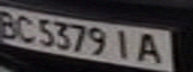3: (51, 20, 72, 52)
5: (33, 16, 57, 48)
7: (66, 21, 90, 55)
9: (84, 25, 112, 57)
A: (130, 29, 172, 65)
B: (0, 7, 21, 39)
C: (12, 12, 39, 44)
I: (109, 27, 139, 61)
